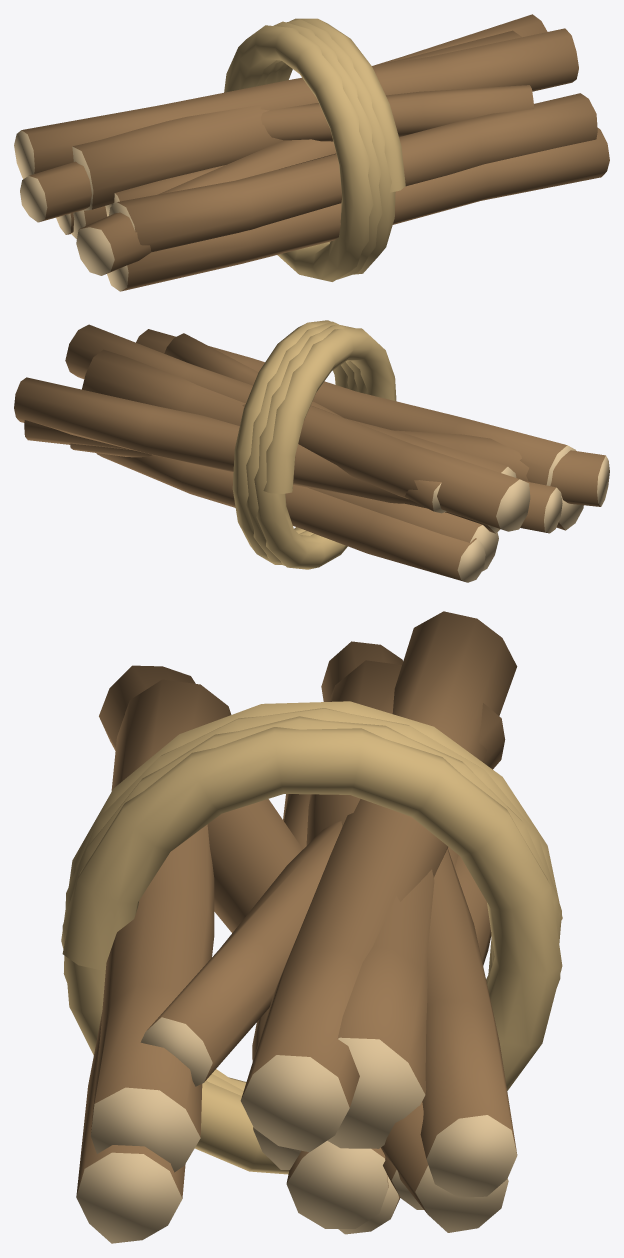
Rendered from kindling_bundle.glb.
3 views of the same model, one above another, from view 1: azimuth 30°, elevation 25°; view 2: azimuth 150°, elevation 25°; view 3: azimuth 270°, elevation 25° (orthographic). The views are drawn at different scales.
Visible parts, largest first — view 1: kindling_6, kindling_binding, kindling_10, kindling_2, kindling_8, kindling_9, kindling_5, kindling_7, kindling_4, kindling_1; view 2: kindling_binding, kindling_10, kindling_7, kindling_0, kindling_6, kindling_8, kindling_5, kindling_1, kindling_9, kindling_3, kindling_2; view 3: kindling_binding, kindling_10, kindling_6, kindling_7, kindling_8, kindling_9, kindling_5, kindling_2, kindling_1, kindling_0, kindling_4.
Part boxes in pixels (x1=…): kindling_6: x1=109, y1=93, x2=597, y2=252; kindling_binding: x1=224, y1=18, x2=405, y2=281; kindling_10: x1=14, y1=28, x2=578, y2=178; kindling_2: x1=107, y1=128, x2=609, y2=291; kindling_8: x1=72, y1=30, x2=521, y2=210; kindling_9: x1=261, y1=85, x2=534, y2=141; kindling_5: x1=76, y1=139, x2=336, y2=275; kindling_7: x1=20, y1=14, x2=547, y2=222; kindling_4: x1=105, y1=165, x2=225, y2=216; kindling_1: x1=71, y1=206, x2=107, y2=239; kindling_binding: x1=232, y1=320, x2=396, y2=569; kindling_10: x1=65, y1=324, x2=530, y2=531; kindling_7: x1=14, y1=377, x2=562, y2=533; kindling_0: x1=96, y1=453, x2=485, y2=582; kindling_6: x1=136, y1=329, x2=576, y2=485; kindling_8: x1=82, y1=349, x2=516, y2=533; kindling_5: x1=24, y1=420, x2=609, y2=506; kindling_1: x1=308, y1=487, x2=498, y2=571; kindling_9: x1=164, y1=333, x2=446, y2=513; kindling_3: x1=70, y1=443, x2=151, y2=457; kindling_2: x1=556, y1=496, x2=583, y2=530; kindling_binding: x1=61, y1=701, x2=562, y2=1174; kindling_10: x1=240, y1=611, x2=517, y2=1152; kindling_6: x1=91, y1=679, x2=231, y2=1172; kindling_7: x1=321, y1=641, x2=517, y2=1197; kindling_8: x1=306, y1=660, x2=434, y2=1148; kindling_9: x1=140, y1=703, x2=505, y2=1086; kindling_5: x1=99, y1=665, x2=508, y2=1232; kindling_2: x1=76, y1=1012, x2=185, y2=1243; kindling_1: x1=286, y1=847, x2=458, y2=1228; kindling_0: x1=338, y1=855, x2=491, y2=1234; kindling_4: x1=252, y1=794, x2=310, y2=1169.
Size of the model in its own units: 0.6484 by 0.2781 by 0.2778.
